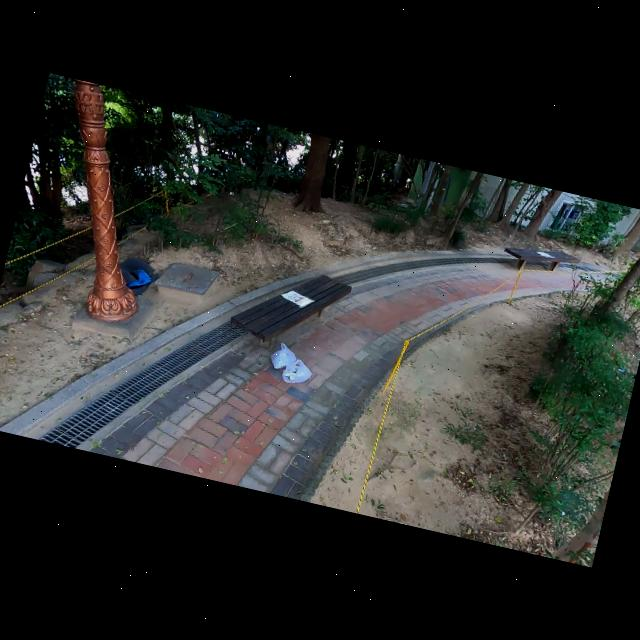trash: (280, 354, 314, 390), (264, 338, 300, 372)
